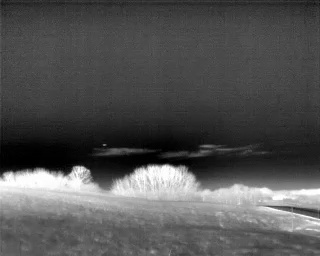AIRPLANE: (101, 141, 108, 148)
